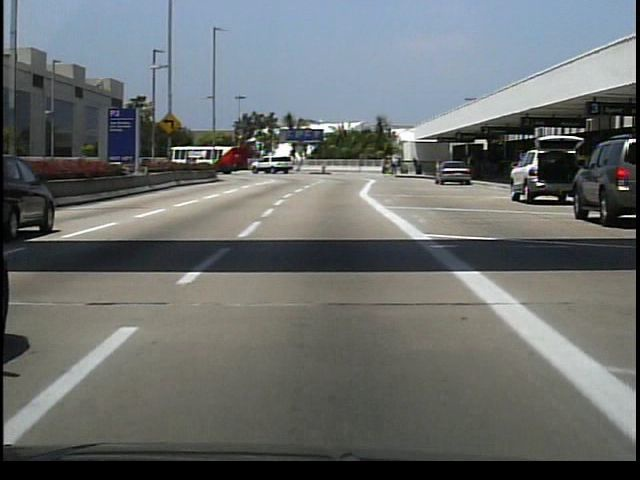person: (464, 151, 479, 181), (389, 152, 399, 178)
